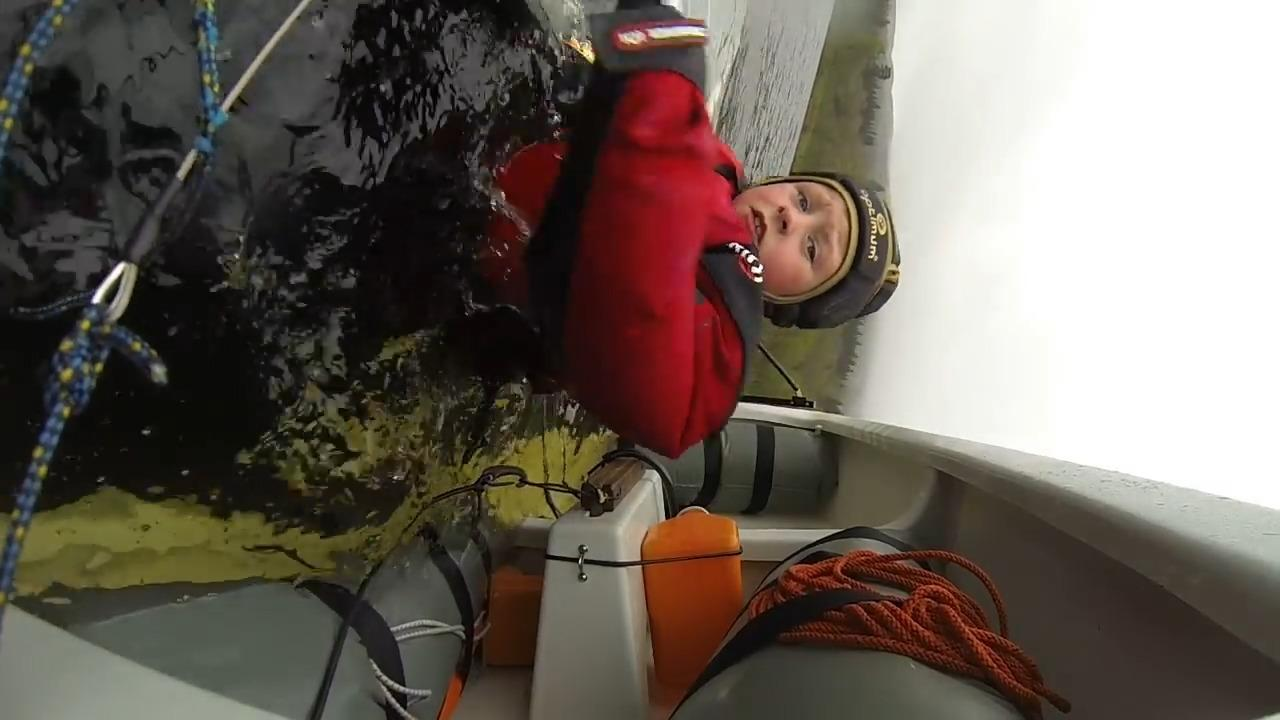boat: (0, 403, 1280, 720), (669, 646, 1028, 720), (660, 0, 748, 117)
land: (792, 0, 896, 191), (751, 323, 871, 416)
person: (458, 0, 901, 460)
sea: (0, 0, 623, 600), (716, 0, 837, 182)
sky: (839, 0, 1280, 512)
